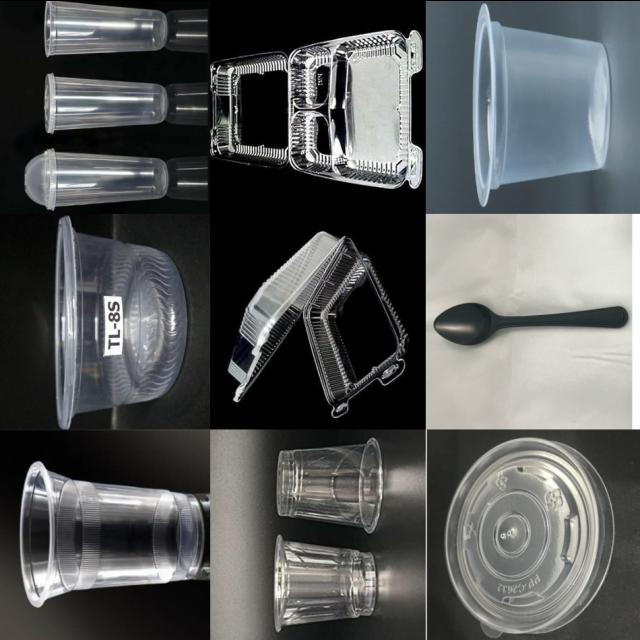plastik: (211, 29, 423, 187), (228, 231, 407, 417), (446, 437, 613, 636), (55, 216, 187, 428), (473, 2, 610, 204), (20, 461, 204, 606), (276, 437, 382, 532), (274, 534, 377, 630), (25, 148, 168, 208), (434, 302, 627, 345), (45, 73, 168, 132), (45, 0, 168, 55)
